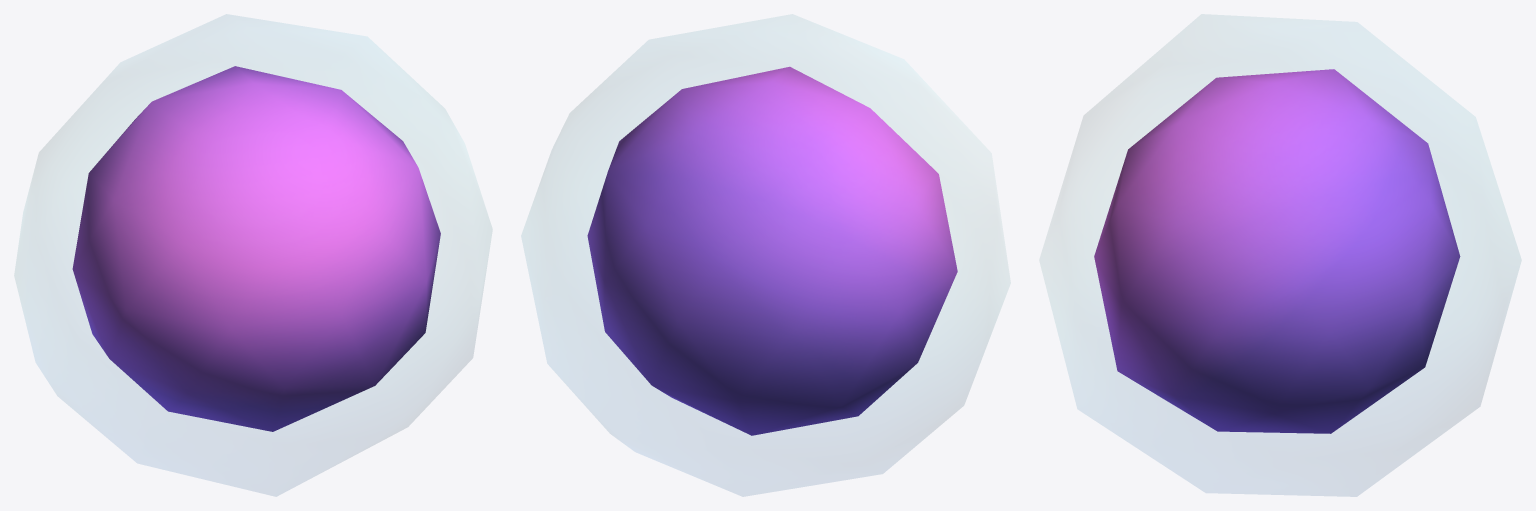
3 renders of one model, left to right at view 1: azimuth 30°, elevation 25°; view 2: azimuth 150°, elevation 25°; view 3: azimuth 270°, elevation 25°, orthographic. The views are drawn at different scales.
Visible parts, largest first — view 1: OvuloMembrana; view 2: OvuloMembrana; view 3: OvuloMembrana.
Part boxes in pixels (left/top/right/bottom): OvuloMembrana: left=14, top=14, right=491, bottom=496; OvuloMembrana: left=521, top=14, right=1010, bottom=496; OvuloMembrana: left=1040, top=14, right=1520, bottom=496.
Size of the model in its own units: 0.1967 by 0.2023 by 0.1955.
2 materials, 2 textured.
